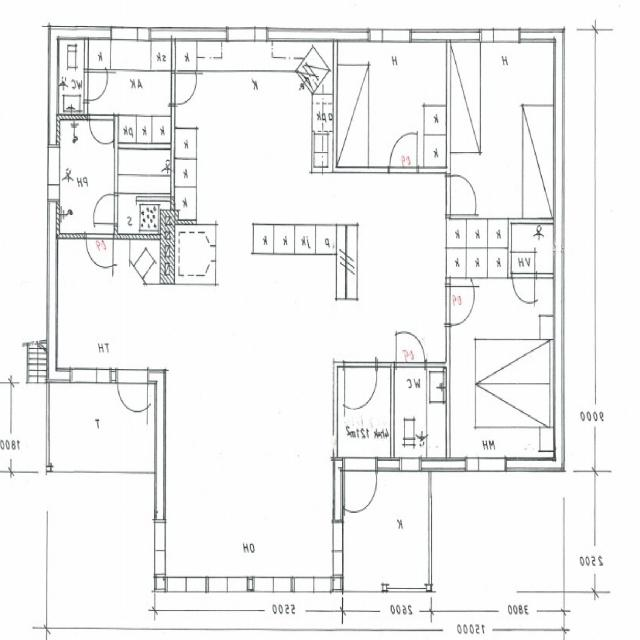door: (345, 457, 377, 517), (118, 368, 148, 424), (345, 361, 377, 413), (396, 321, 425, 367), (86, 234, 114, 278), (446, 176, 478, 214), (446, 287, 478, 325), (390, 128, 417, 172), (90, 115, 113, 153), (513, 272, 535, 309), (171, 73, 197, 104), (85, 72, 109, 101), (95, 196, 118, 223)
